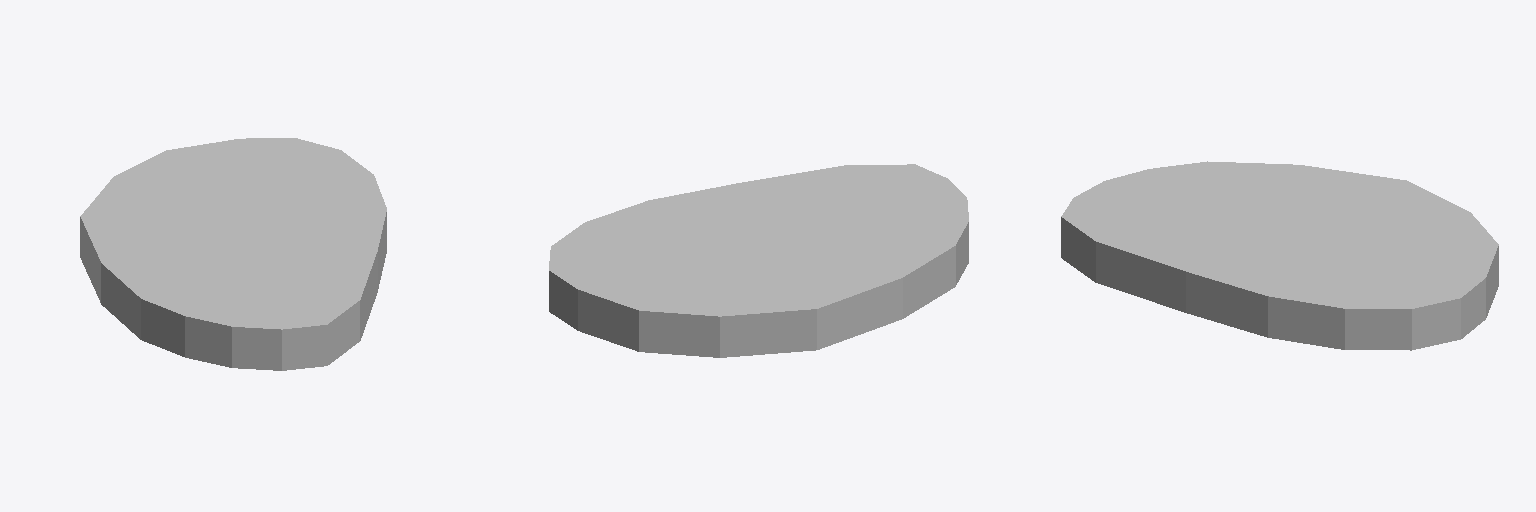
The model's file is FloorRock3.obj.
3 views of the same model, side by side, from view 1: azimuth 30°, elevation 25°; view 2: azimuth 150°, elevation 25°; view 3: azimuth 270°, elevation 25° (orthographic).
Parts seen in each view (by area): view 1: Circle; view 2: Circle; view 3: Circle.
Part boxes in pixels (x1,y1,x2,y2): Circle: (80,138,386,370); Circle: (549,164,968,357); Circle: (1061,161,1498,350).
Bounding box in the file's own units: 7.64 × 1 × 9.58.